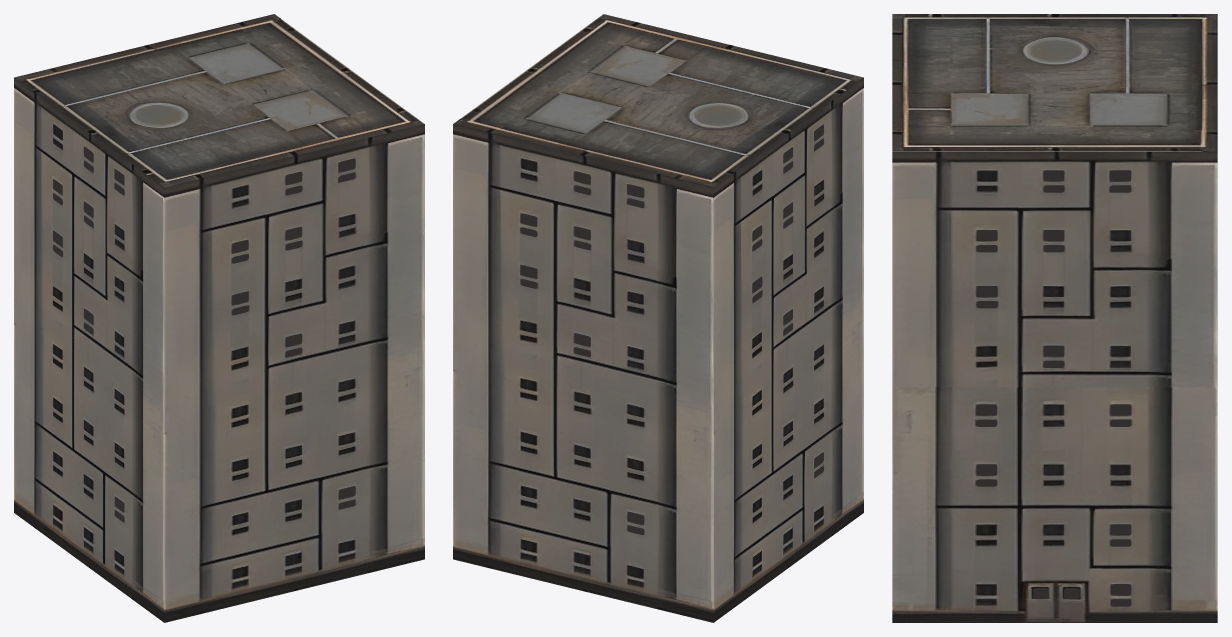
The model's file is city8storya_hdtex.glb.
The picture shows the model from 3 angles, left to right: view 1: azimuth 30°, elevation 25°; view 2: azimuth 150°, elevation 25°; view 3: azimuth 270°, elevation 25°; orthographic projection. The views are drawn at different scales.
Parts seen in each view (by area): view 1: CityBlock8Story_A, LitWin_City8Story; view 2: CityBlock8Story_A, LitWin_City8Story; view 3: CityBlock8Story_A, LitWin_City8Story.
Boxes of the visible parts, bbox=[...] form: CityBlock8Story_A: bbox=[14, 14, 424, 622]; LitWin_City8Story: bbox=[53, 147, 355, 522]; CityBlock8Story_A: bbox=[453, 14, 863, 622]; LitWin_City8Story: bbox=[520, 125, 823, 534]; CityBlock8Story_A: bbox=[892, 14, 1217, 622]; LitWin_City8Story: bbox=[976, 170, 1131, 606].
Size of the model in its own units: 17.76 by 28.37 by 17.76.
1 material, 1 textured.
